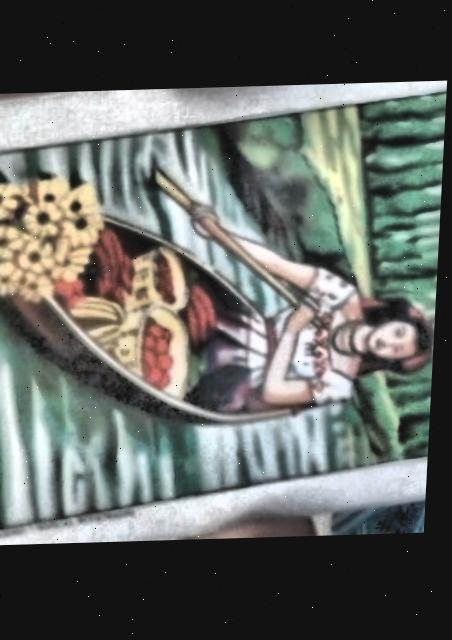La Chalupa: (0, 93, 448, 529)
